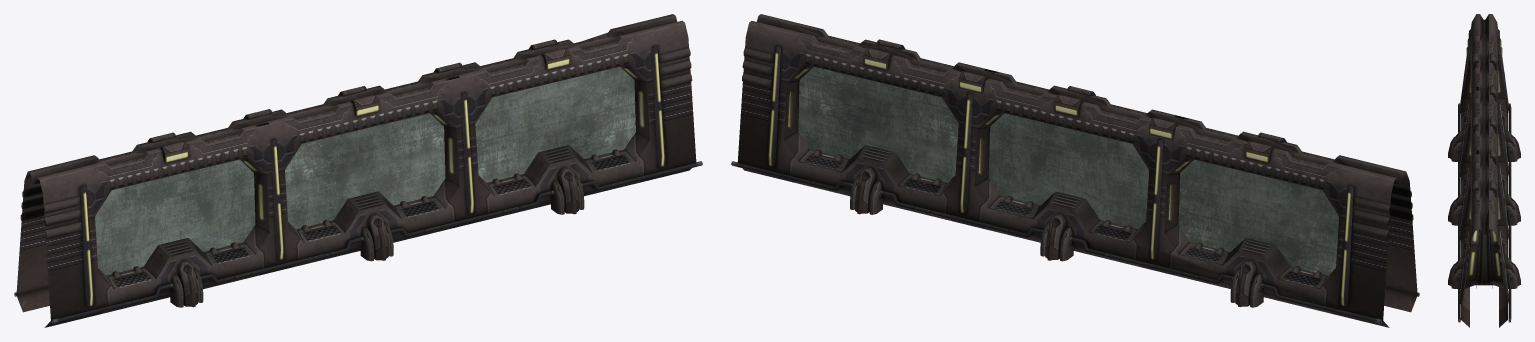
The model's file is castanarwindowlarge.fbx.
3 renders of one model, left to right at view 1: azimuth 30°, elevation 25°; view 2: azimuth 150°, elevation 25°; view 3: azimuth 270°, elevation 25°, orthographic. The views are drawn at different scales.
Parts seen in each view (by area): view 1: Geoset_1, Geoset_0; view 2: Geoset_1, Geoset_0; view 3: Geoset_1.
Boxes of the visible parts, left/top/right/bottom form: Geoset_1: left=14, top=14, right=702, bottom=327; Geoset_0: left=95, top=66, right=635, bottom=275; Geoset_1: left=731, top=14, right=1419, bottom=327; Geoset_0: left=798, top=66, right=1339, bottom=275; Geoset_1: left=1448, top=14, right=1520, bottom=327.
Size of the model in its own units: 10.05 by 2.18 by 1.43.
2 materials, 2 textured.
